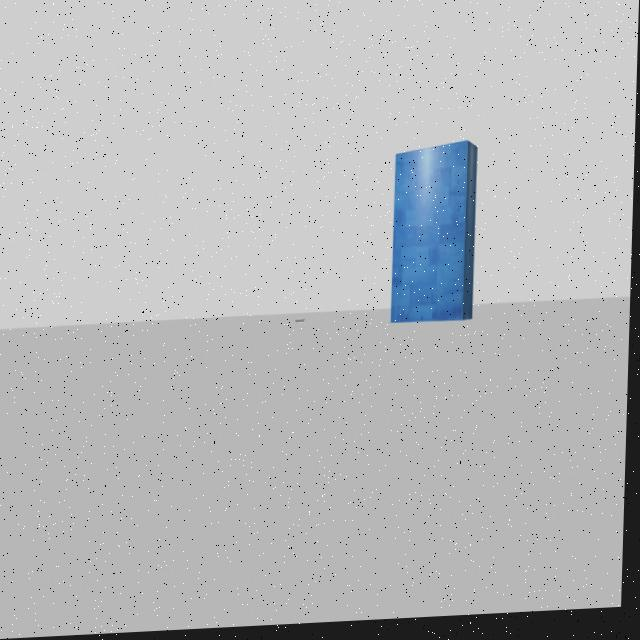bowl: (293, 316, 313, 329)
shelf: (384, 131, 489, 343)
